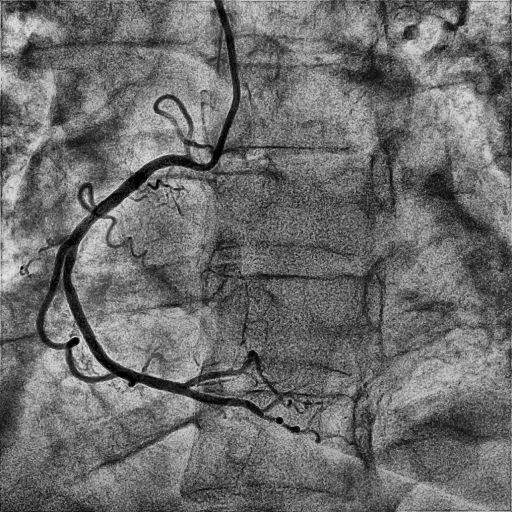pborca: (186, 350, 276, 392)
pda: (181, 389, 351, 444)
rca: (63, 155, 192, 394)
